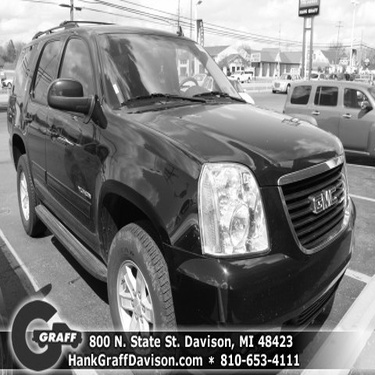car: (7, 6, 358, 350), (183, 68, 218, 101), (262, 73, 307, 95), (227, 64, 256, 87), (305, 65, 330, 87), (1, 69, 16, 92)
